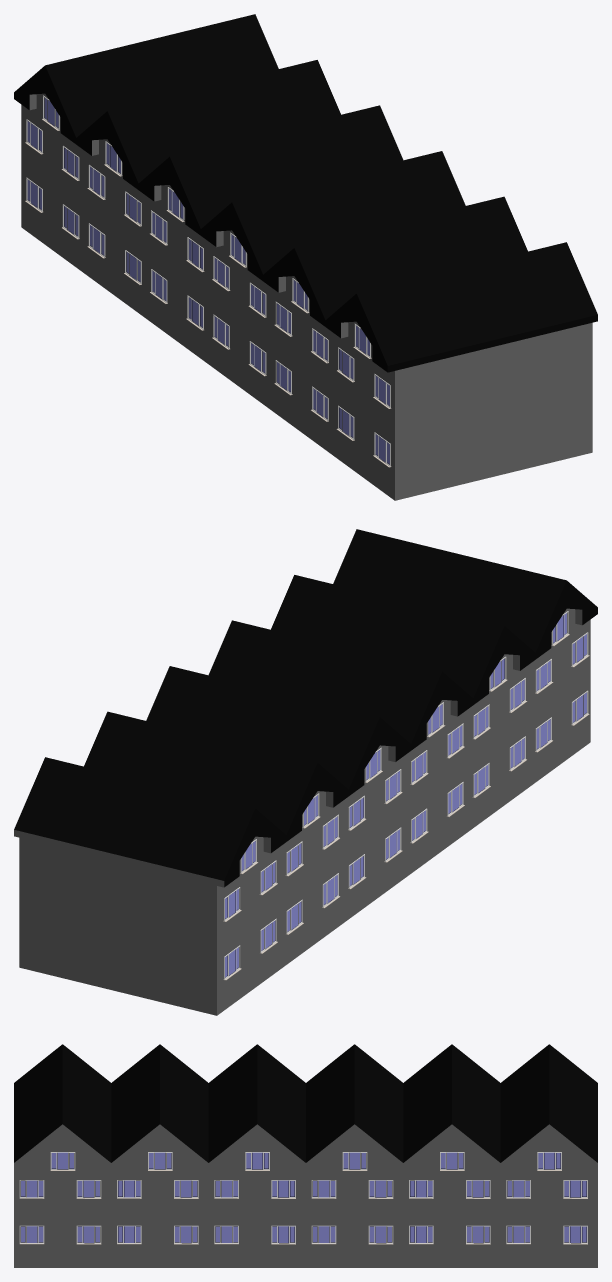
The model's file is SixTerracedHouses.fbx.
3 views of the same model, one above another, from view 1: azimuth 30°, elevation 25°; view 2: azimuth 150°, elevation 25°; view 3: azimuth 270°, elevation 25° (orthographic). The views are drawn at different scales.
Parts seen in each view (by area): view 1: TerracedHouses; view 2: TerracedHouses; view 3: TerracedHouses.
Boxes of the visible parts, x1,y1,x2,y2 form: TerracedHouses: (14, 14, 597, 500); TerracedHouses: (14, 529, 597, 1015); TerracedHouses: (14, 1044, 597, 1267).
Size of the model in its own units: 1169 by 993 by 3600.
